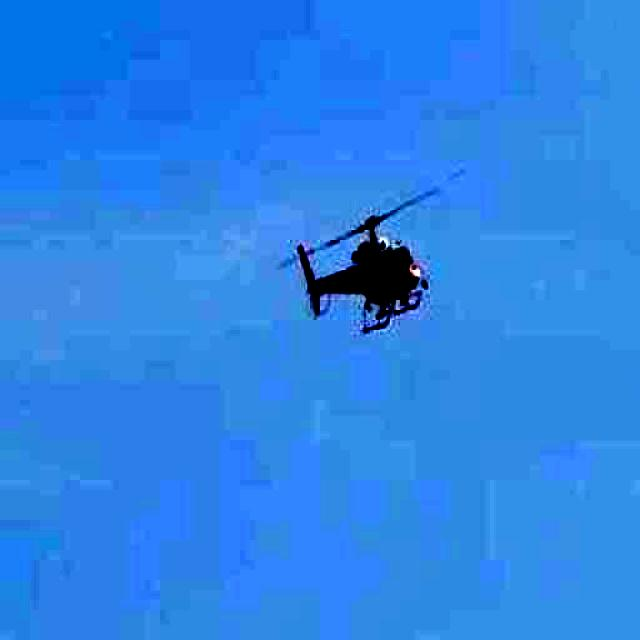drone: (252, 171, 496, 358)
